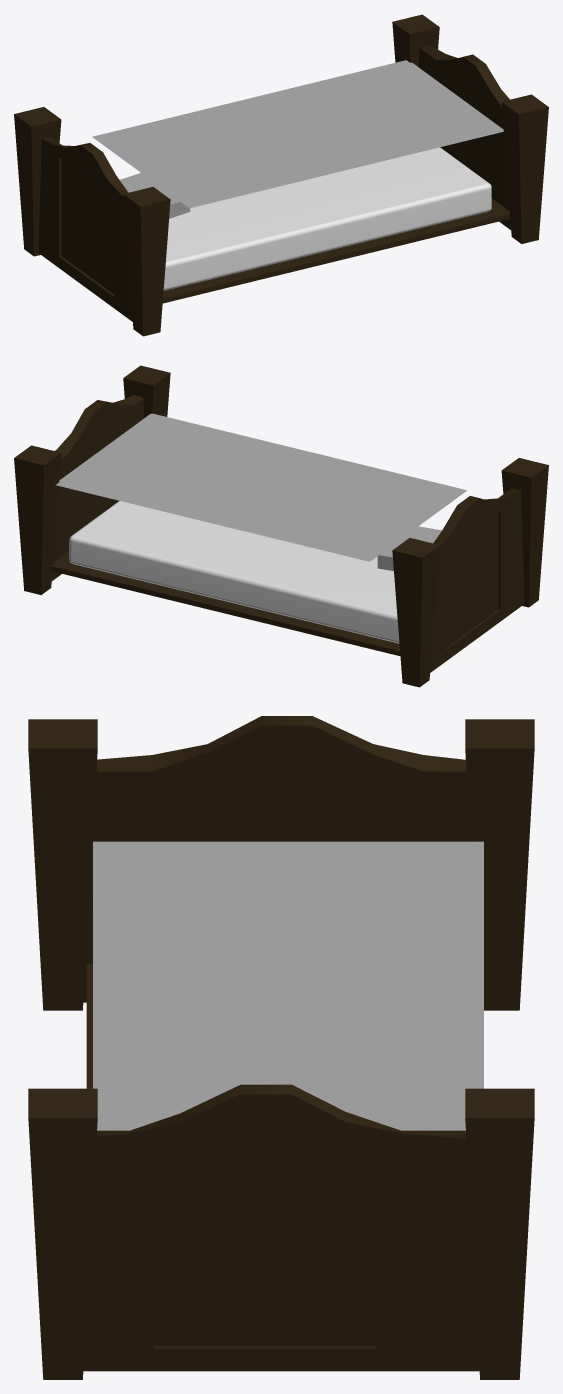
The model's file is normal_bed.fbx.
3 renders of one model, top to bottom at view 1: azimuth 30°, elevation 25°; view 2: azimuth 150°, elevation 25°; view 3: azimuth 270°, elevation 25°, orthographic. The views are drawn at different scales.
Visible parts, largest first — view 1: Bed, blanket, Matress, pillow; view 2: Bed, blanket, Matress, pillow; view 3: Bed, blanket.
Part boxes in pixels (x1,y1,x2,y2): Bed: (14, 14, 548, 336); blanket: (92, 60, 503, 208); Matress: (163, 147, 491, 290); pillow: (120, 173, 190, 218); Bed: (14, 365, 548, 687); blanket: (55, 413, 466, 561); Matress: (69, 501, 399, 643); pillow: (377, 526, 441, 570); Bed: (28, 716, 534, 1379); blanket: (93, 841, 483, 1130).
Size of the model in its own units: 15.11 by 4.98 by 8.11.
